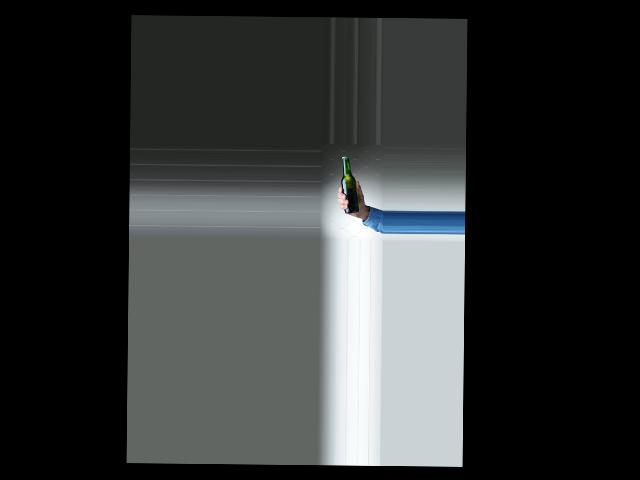beer: (340, 156, 360, 212)
